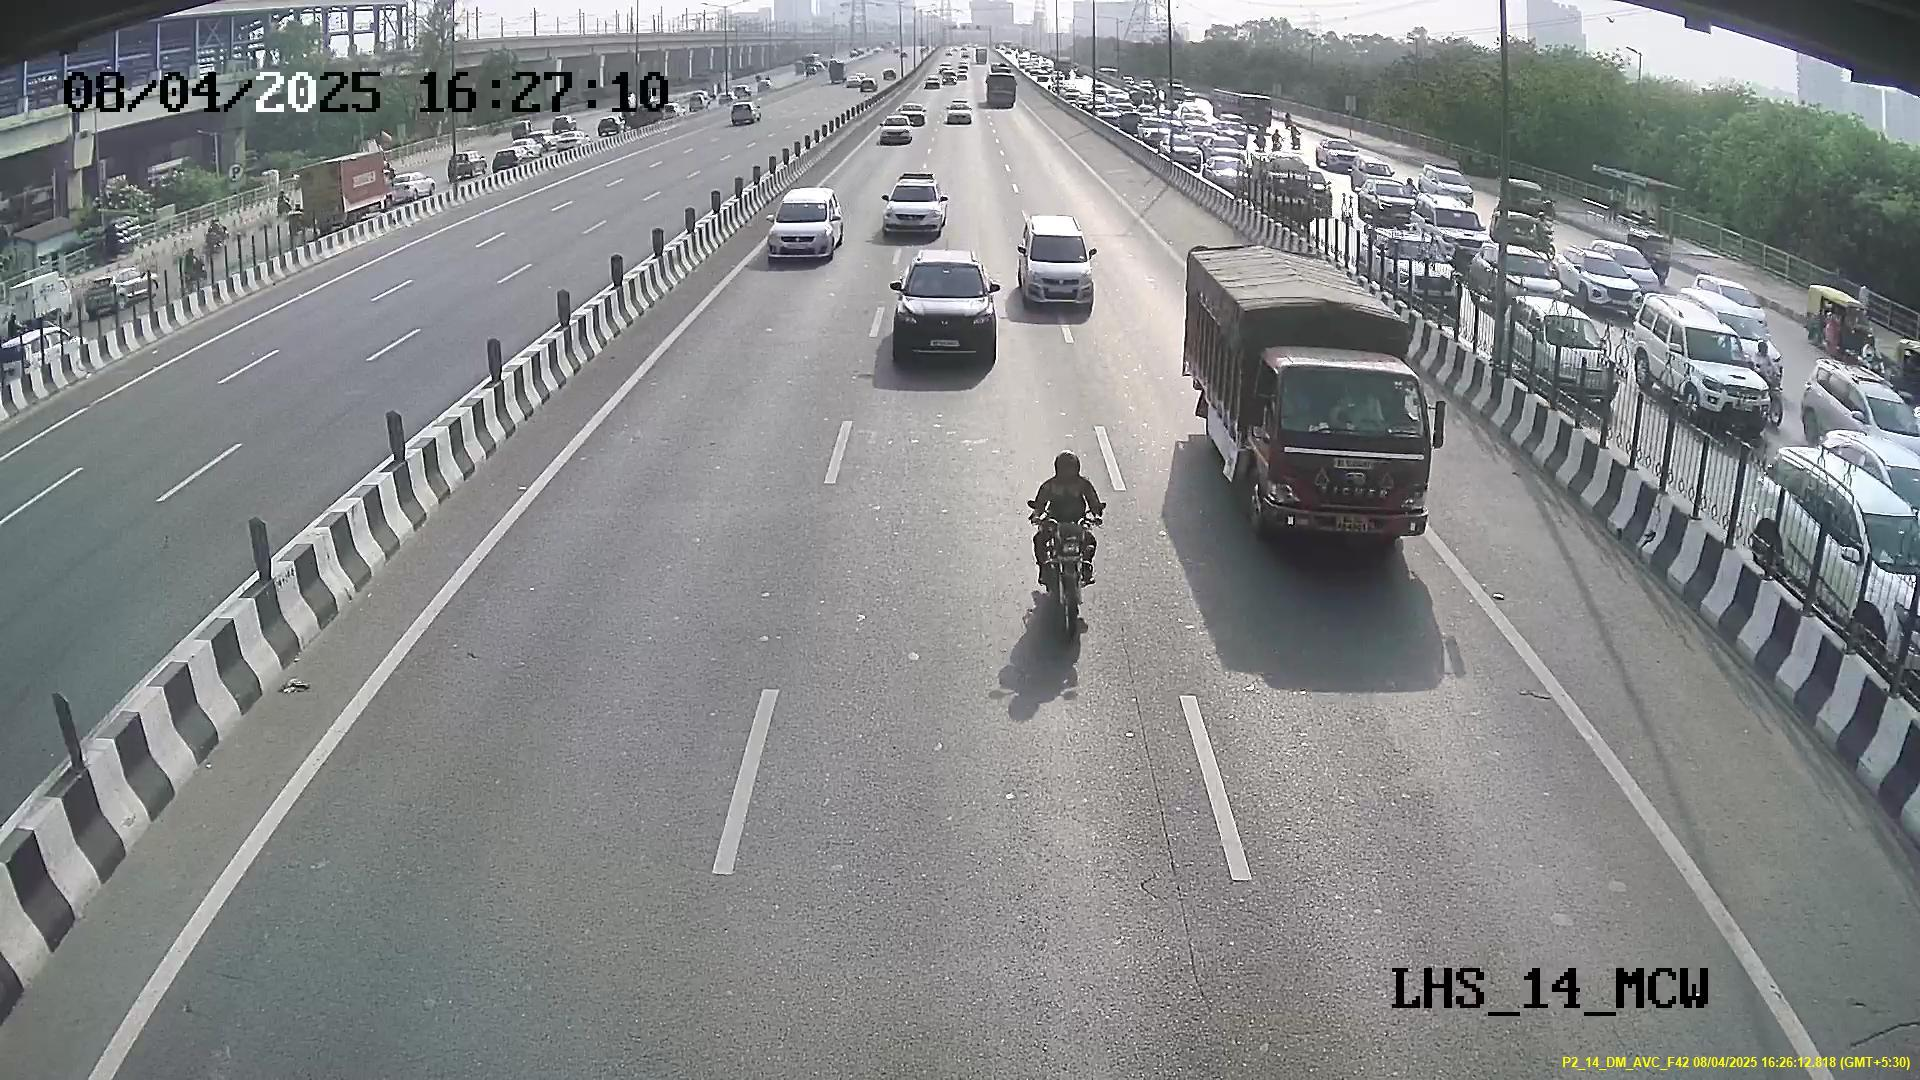bike: (1013, 451, 1121, 650)
car: (885, 253, 1000, 372), (1018, 222, 1098, 314), (764, 187, 843, 274)
lcv: (1251, 348, 1435, 549)
